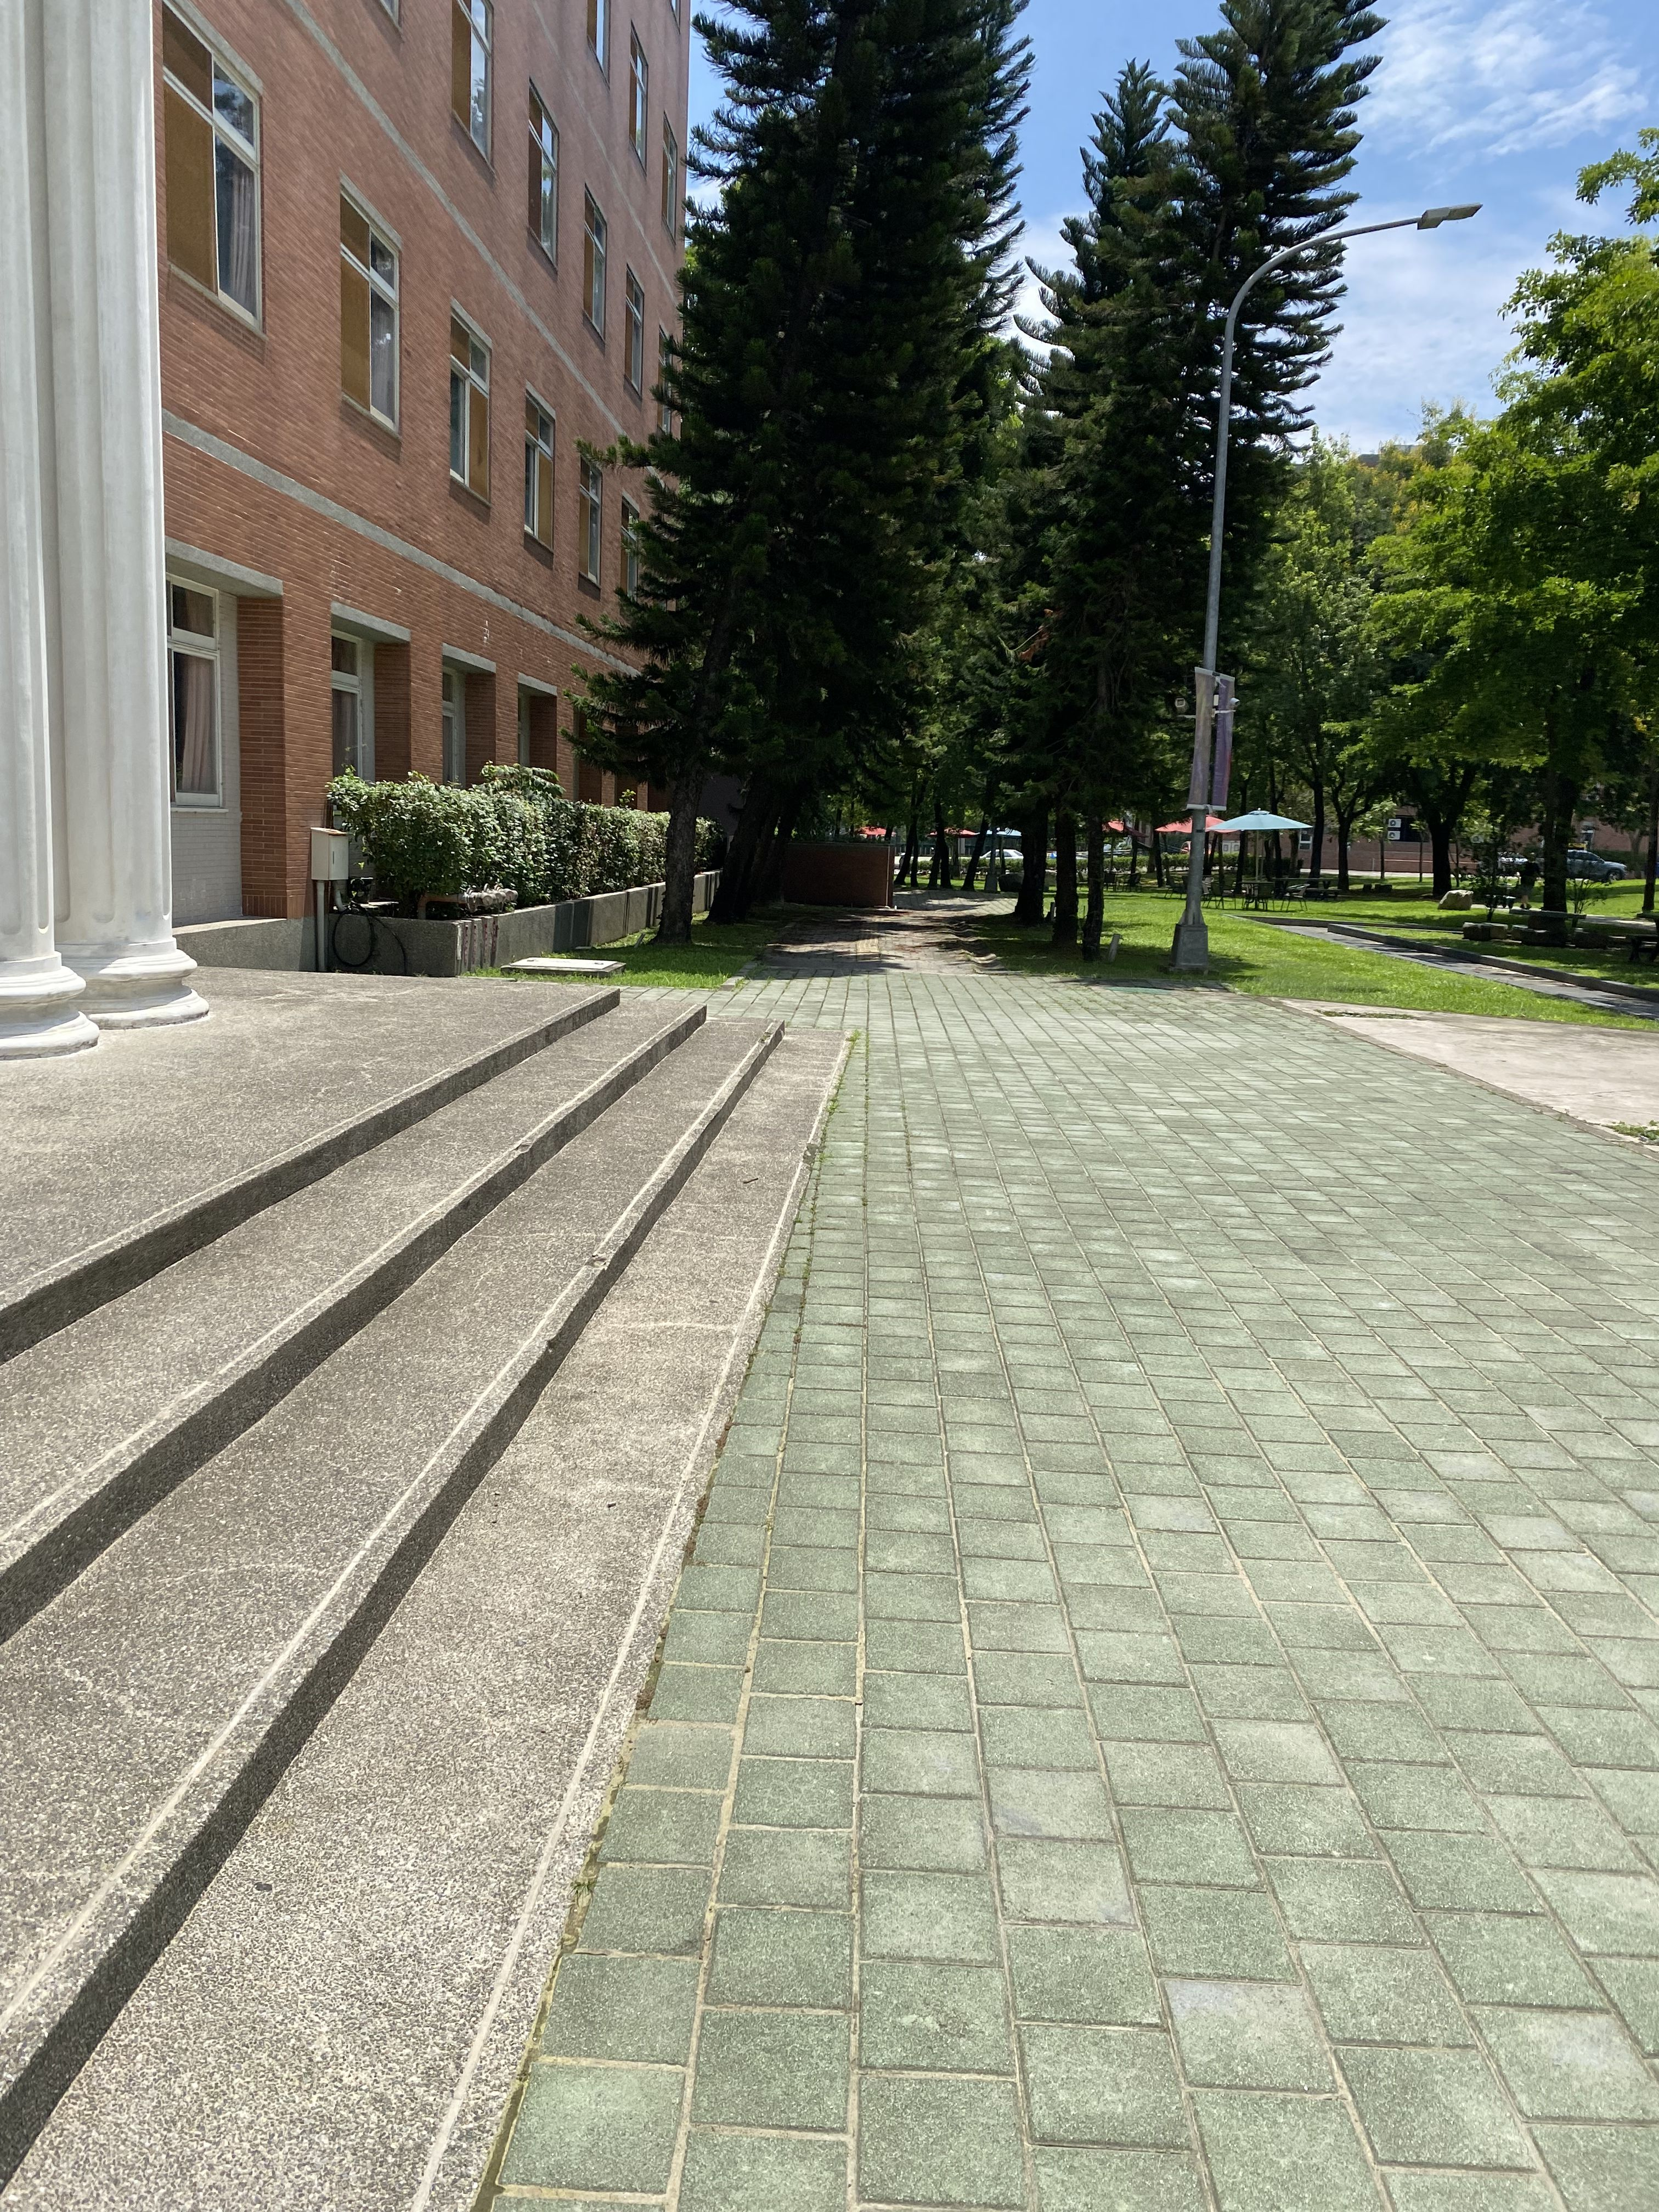sidewalk: (587, 853, 1659, 2212)
